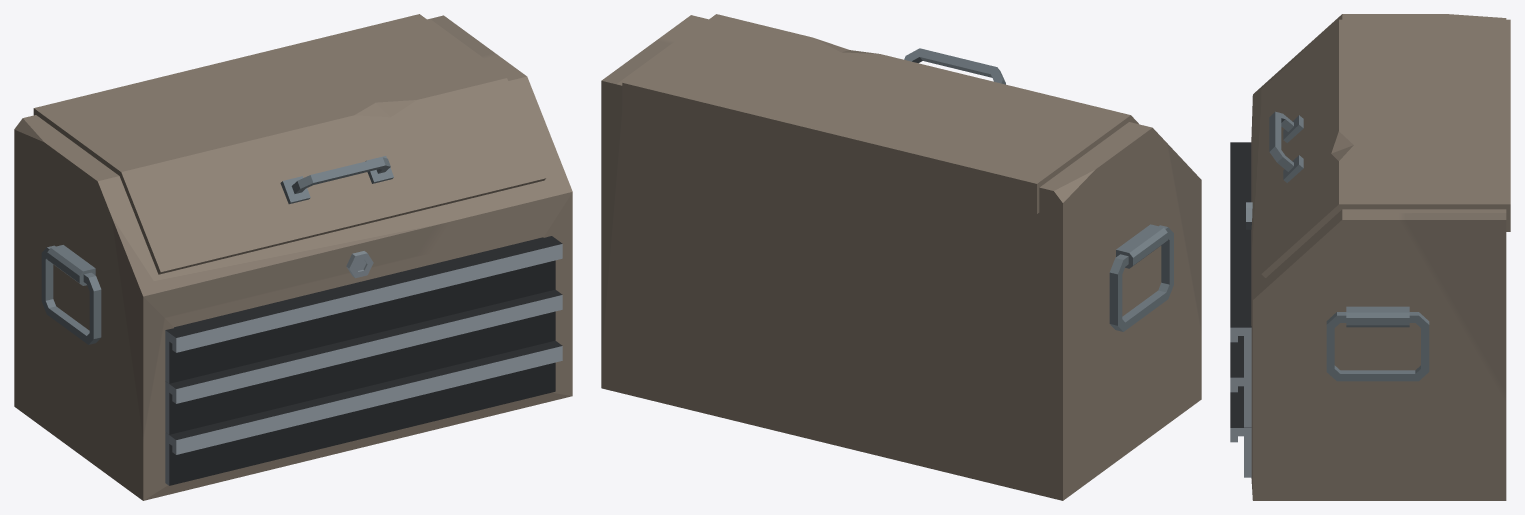
Rendered from SM_Prop_ToolCabinet_Top_02_Preset.fbx.
The picture shows the model from 3 angles, left to right: view 1: azimuth 30°, elevation 25°; view 2: azimuth 150°, elevation 25°; view 3: azimuth 270°, elevation 25°; orthographic projection. The views are drawn at different scales.
Visible parts, largest first — view 1: SM_Prop_ToolCabinet_Top_02_Preset; view 2: SM_Prop_ToolCabinet_Top_02_Preset; view 3: SM_Prop_ToolCabinet_Top_02_Preset.
Boxes of the visible parts, x1,y1,x2,y2 form: SM_Prop_ToolCabinet_Top_02_Preset: (14,14,572,500); SM_Prop_ToolCabinet_Top_02_Preset: (601,14,1201,500); SM_Prop_ToolCabinet_Top_02_Preset: (1230,14,1510,500).
Bounding box in the file's own units: 81.58 × 49.19 × 43.7.
